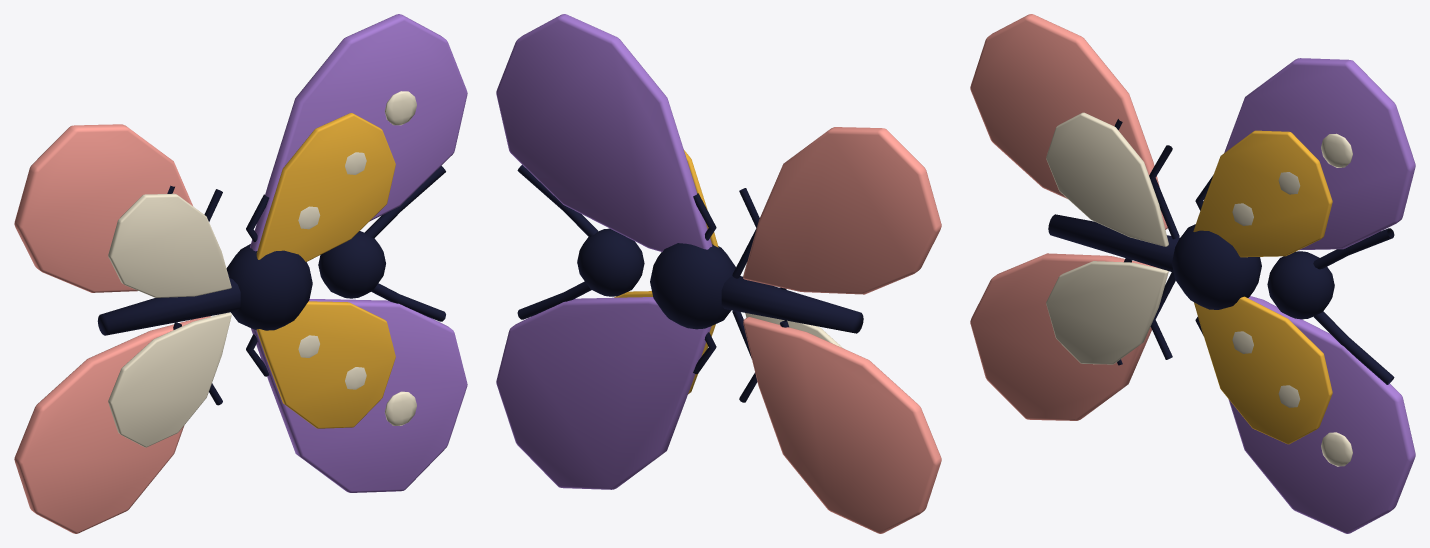
Rendered from r048_butterfly_world_butterfly_environment_family_butterfly_03.glb.
3 views of the same model, side by side, from view 1: azimuth 30°, elevation 25°; view 2: azimuth 150°, elevation 25°; view 3: azimuth 330°, elevation 25° (orthographic).
Parts seen in each view (by area): view 1: r048_butterfly_world_butterfly_environment_family_butterfly_; view 2: r048_butterfly_world_butterfly_environment_family_butterfly_; view 3: r048_butterfly_world_butterfly_environment_family_butterfly_.
Boxes of the visible parts, x1,y1,x2,y2 form: r048_butterfly_world_butterfly_environment_family_butterfly_: (14,14,467,533); r048_butterfly_world_butterfly_environment_family_butterfly_: (496,14,941,533); r048_butterfly_world_butterfly_environment_family_butterfly_: (970,14,1415,533).
Size of the model in its own units: 3.26 by 3.31 by 0.5.
